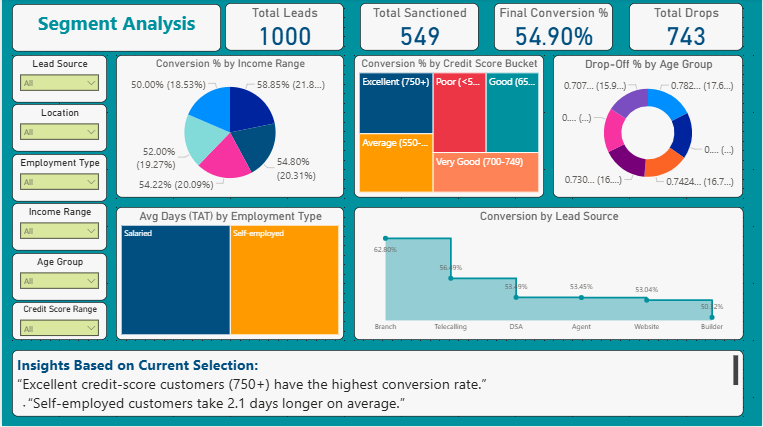

The page's visual inventory and layout, read from the dashboard file:
{"tool":"powerbi","page":{"name":"Segment Analysis","canvas":[1280,720],"ordinal":2},"visuals":[{"type":"card","title":"Total Leads","fields":{"Values":["Key_Measures.Total Leads"]},"box":[375.3,7.6,200,80],"z":0},{"type":"card","title":"Total Sanctioned","fields":{"Values":["Key_Measures.Total Sanctioned"]},"box":[602.2,7.6,200,80],"z":1000},{"type":"card","title":"Final Conversion %","fields":{"Values":["Key_Measures.Final Conversion %"]},"box":[829.1,7.6,200,80],"z":2000},{"type":"card","title":"Total Drops","fields":{"Values":["Key_Measures.Total Drops"]},"box":[1056,7.6,192,80],"z":3000},{"type":"slicer","title":"Lead Source","fields":{"Values":["Lead_Master.Lead_Source"]},"box":[16,96,160,80],"z":4000},{"type":"slicer","title":"Location","fields":{"Values":["Lead_Master.Location"]},"box":[16,179.2,160,80],"z":5000},{"type":"slicer","title":"Employment Type","fields":{"Values":["Lead_Master.Employment_Type"]},"box":[16,262.4,160,80],"z":6000},{"type":"slicer","title":"Income Range","fields":{"Values":["Lead_Master.Income Range"]},"box":[16,345.6,160,80],"z":7000},{"type":"slicer","title":"Credit Score Range","fields":{"Values":["Credit_Assessment.Credit Score Range"]},"box":[16,512,160,64],"z":8000},{"type":"slicer","title":"Age Group","fields":{"Values":["Lead_Master.Age Group"]},"box":[16,428.8,160,80],"z":9000},{"type":"pieChart","title":"Conversion % by Income Range","fields":{"Category":["Lead_Master.Income Range"],"Y":["Key_Measures.Final Conversion %"]},"box":[192,96,384,240],"z":10000},{"type":"treemap","title":"Conversion % by Credit Score Bucket","fields":{"Group":["Credit_Assessment.Credit Score Range"],"Values":["Key_Measures.Final Conversion %"]},"box":[592,96,320,240],"z":11000},{"type":"donutChart","title":"Drop-Off % by Age Group","fields":{"Category":["Lead_Master.Age Group"],"Y":["Key_Measures.Stage DropOff %"]},"box":[928,96,320,240],"z":12000},{"type":"treemap","title":"Avg Days (TAT) by Employment Type","fields":{"Group":["Lead_Master.Employment_Type"],"Values":["Key_Measures.Avg Days in Stage"]},"box":[192,352,384,224],"z":13000},{"type":"areaChart","title":"Conversion by Lead Source","fields":{"Category":["Lead_Master.Lead_Source"],"Y":["Key_Measures.Final Conversion %"]},"box":[592,352,656,224],"z":14000},{"type":"textbox","box":[16,592,1232,112],"z":15000},{"type":"textbox","box":[16,10.1,352,80],"z":16000}]}

Visuals, with their boxes in screenshot pixels (x1, y1, x2, y2), scaled from the page's 1280x720 canvas onto the 763x427 screenshot:
"Total Leads" card: BBox(224, 5, 343, 52)
"Total Sanctioned" card: BBox(359, 5, 478, 52)
"Final Conversion %" card: BBox(494, 5, 613, 52)
"Total Drops" card: BBox(629, 5, 744, 52)
"Lead Source" slicer: BBox(10, 57, 105, 104)
"Location" slicer: BBox(10, 106, 105, 154)
"Employment Type" slicer: BBox(10, 156, 105, 203)
"Income Range" slicer: BBox(10, 205, 105, 252)
"Credit Score Range" slicer: BBox(10, 304, 105, 342)
"Age Group" slicer: BBox(10, 254, 105, 302)
"Conversion % by Income Range" pieChart: BBox(114, 57, 343, 199)
"Conversion % by Credit Score Bucket" treemap: BBox(353, 57, 544, 199)
"Drop-Off % by Age Group" donutChart: BBox(553, 57, 744, 199)
"Avg Days (TAT) by Employment Type" treemap: BBox(114, 209, 343, 342)
"Conversion by Lead Source" areaChart: BBox(353, 209, 744, 342)
textbox: BBox(10, 351, 744, 418)
textbox: BBox(10, 6, 219, 53)
